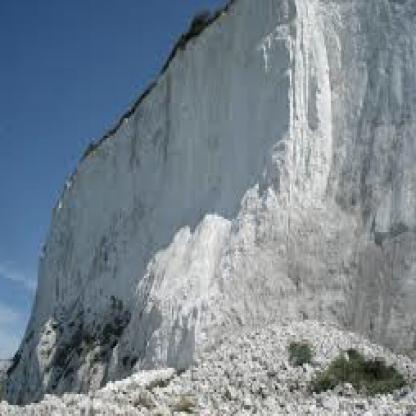Sedimentary_Chalk: (113, 42, 369, 407)
